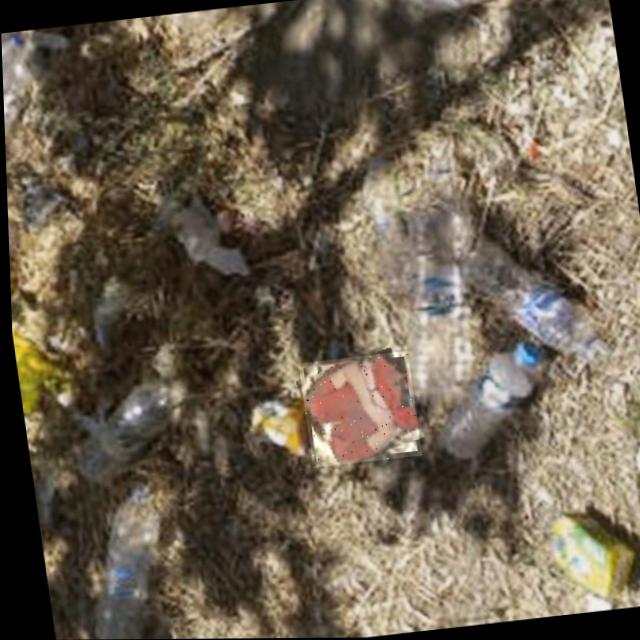Person in Rubble: (295, 350, 418, 467)
